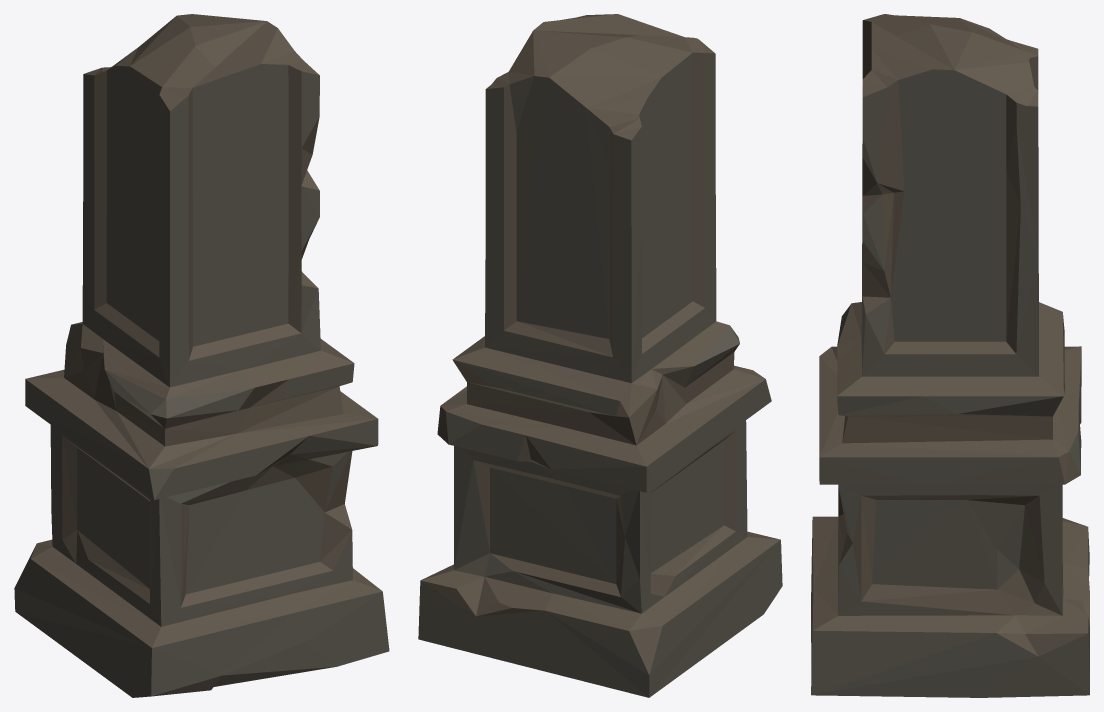
The model's file is synty-prop-pillar-broken-02.gltf.
3 renders of one model, left to right at view 1: azimuth 30°, elevation 25°; view 2: azimuth 150°, elevation 25°; view 3: azimuth 270°, elevation 25°, orthographic. The views are drawn at different scales.
Parts seen in each view (by area): view 1: SM_Prop_Pillar_Broken_02; view 2: SM_Prop_Pillar_Broken_02; view 3: SM_Prop_Pillar_Broken_02.
Part boxes in pixels (box(x1,y1,x2,y2)): SM_Prop_Pillar_Broken_02: box(14, 14, 389, 697); SM_Prop_Pillar_Broken_02: box(418, 14, 782, 697); SM_Prop_Pillar_Broken_02: box(811, 14, 1089, 697).
Size of the model in its own units: 0.6337 by 1.52 by 0.6337.
Materials: 1 (1 with a texture image).
